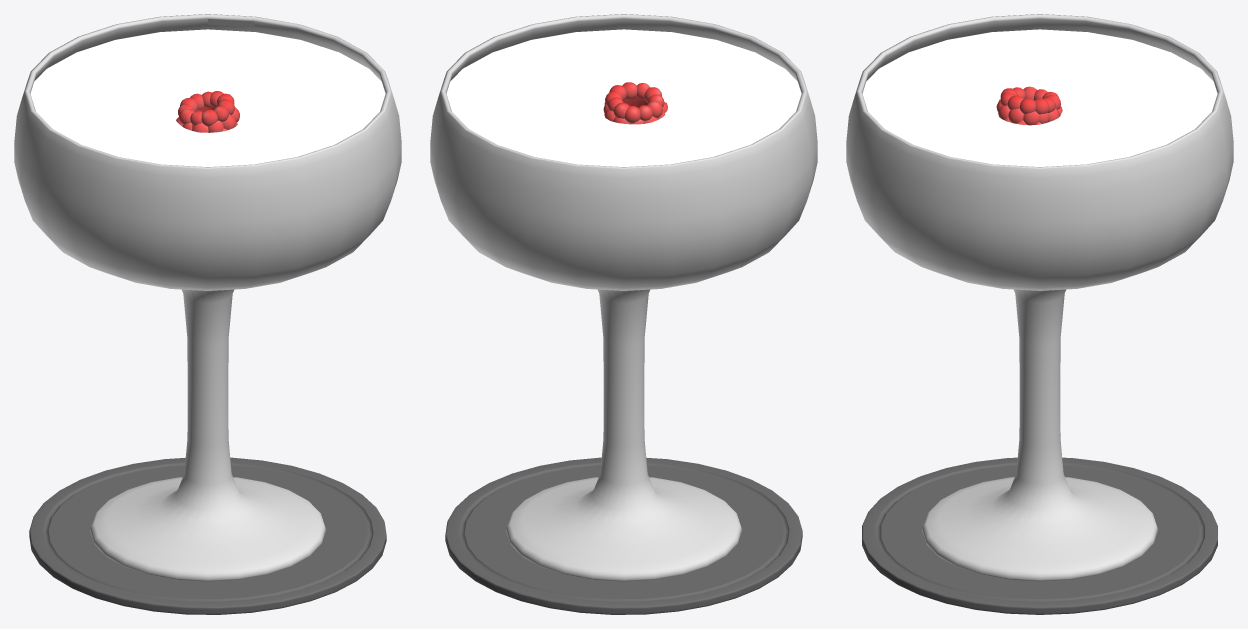
The model's file is frambuesa-draco.glb.
3 renders of one model, left to right at view 1: azimuth 30°, elevation 25°; view 2: azimuth 150°, elevation 25°; view 3: azimuth 270°, elevation 25°, orthographic.
Visible parts, largest first — view 1: glass, liquido, posavasos, frambuesa; view 2: glass, liquido, posavasos, frambuesa; view 3: glass, liquido, posavasos, frambuesa.
Boxes of the visible parts, box(x1,y1,x2,y2) form: glass: box(14, 14, 401, 581); liquido: box(30, 29, 385, 166); posavasos: box(29, 457, 386, 614); frambuesa: box(176, 91, 239, 132); glass: box(430, 14, 817, 581); liquido: box(446, 29, 801, 166); posavasos: box(445, 457, 802, 614); frambuesa: box(603, 82, 667, 124); glass: box(846, 14, 1233, 581); liquido: box(862, 29, 1217, 166); posavasos: box(862, 457, 1217, 614); frambuesa: box(996, 86, 1062, 125).
Size of the model in its own units: 0.5404 by 0.6913 by 0.5404.
4 materials, 2 textured.
